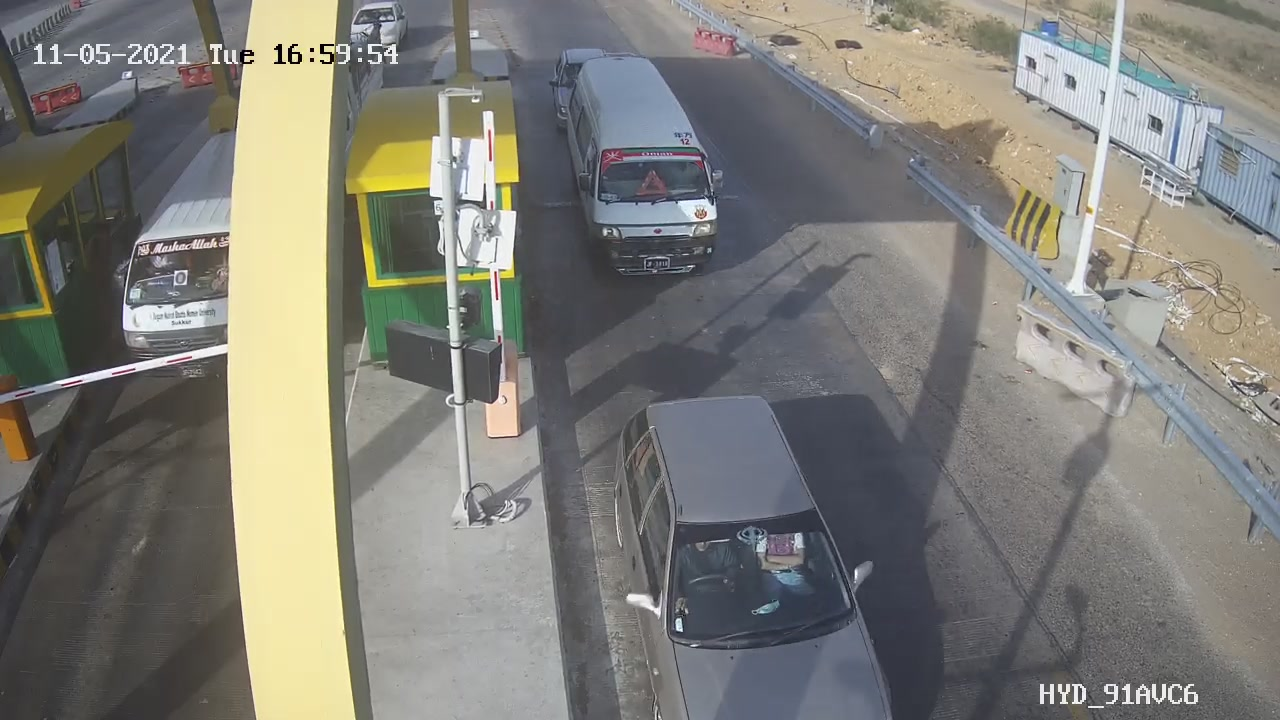F2: (552, 44, 739, 299)
